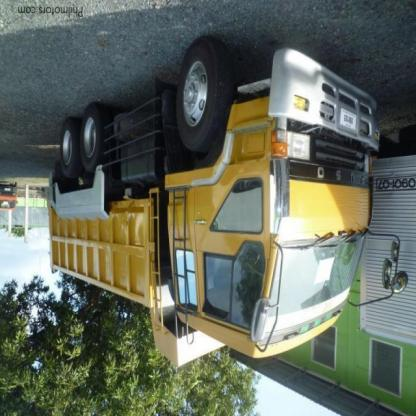truck: (47, 36, 405, 370)
